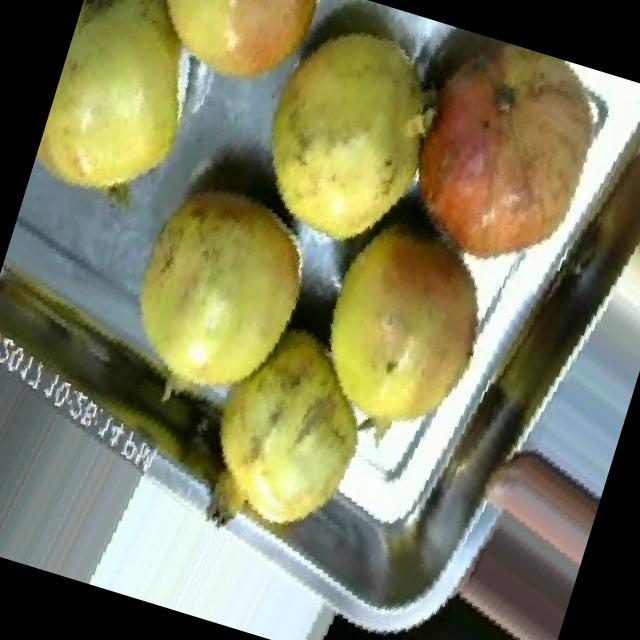fruit: (77, 136, 360, 448), (351, 17, 640, 319), (270, 182, 530, 472), (214, 0, 478, 285), (168, 301, 408, 568), (22, 0, 249, 244), (111, 0, 347, 126)
